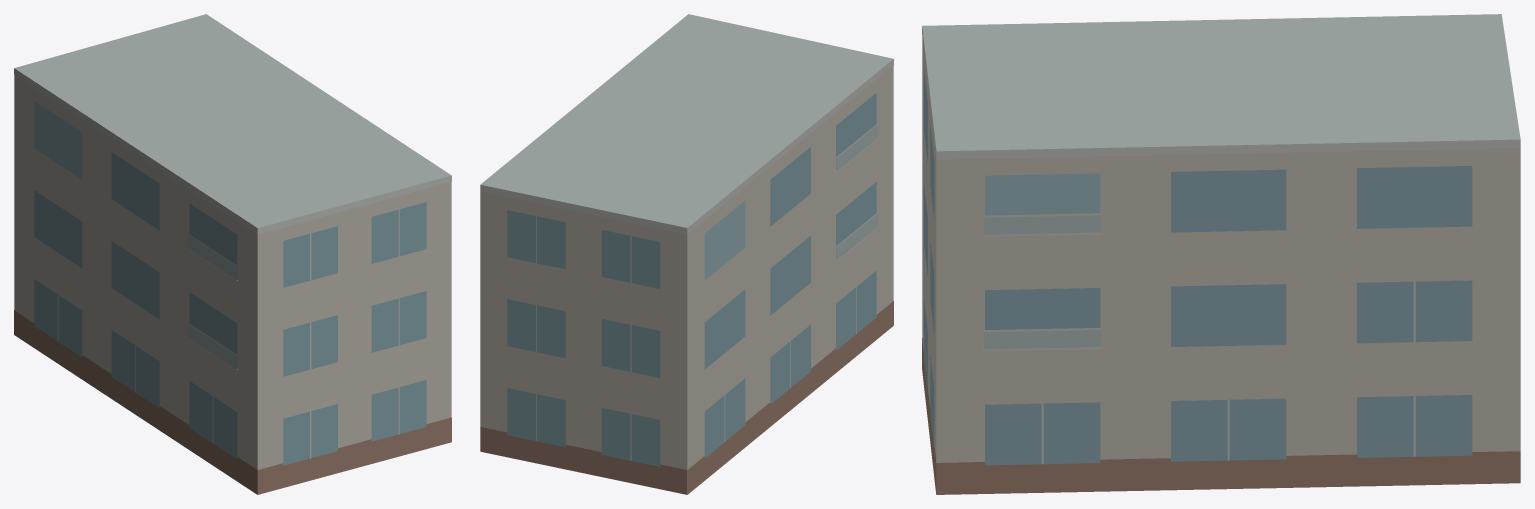
File: survey-upis-33030629.glb
3 renders of one model, left to right at view 1: azimuth 30°, elevation 25°; view 2: azimuth 150°, elevation 25°; view 3: azimuth 270°, elevation 25°, orthographic. The views are drawn at different scales.
Visible parts, largest first — view 1: survey-upis-33030629.tmp; view 2: survey-upis-33030629.tmp; view 3: survey-upis-33030629.tmp.
Boxes of the visible parts, x1,y1,x2,y2 form: survey-upis-33030629.tmp: (14,14,451,494); survey-upis-33030629.tmp: (480,14,893,494); survey-upis-33030629.tmp: (922,14,1520,494).
Size of the model in its own units: 8.66 by 10.1 by 15.95.
